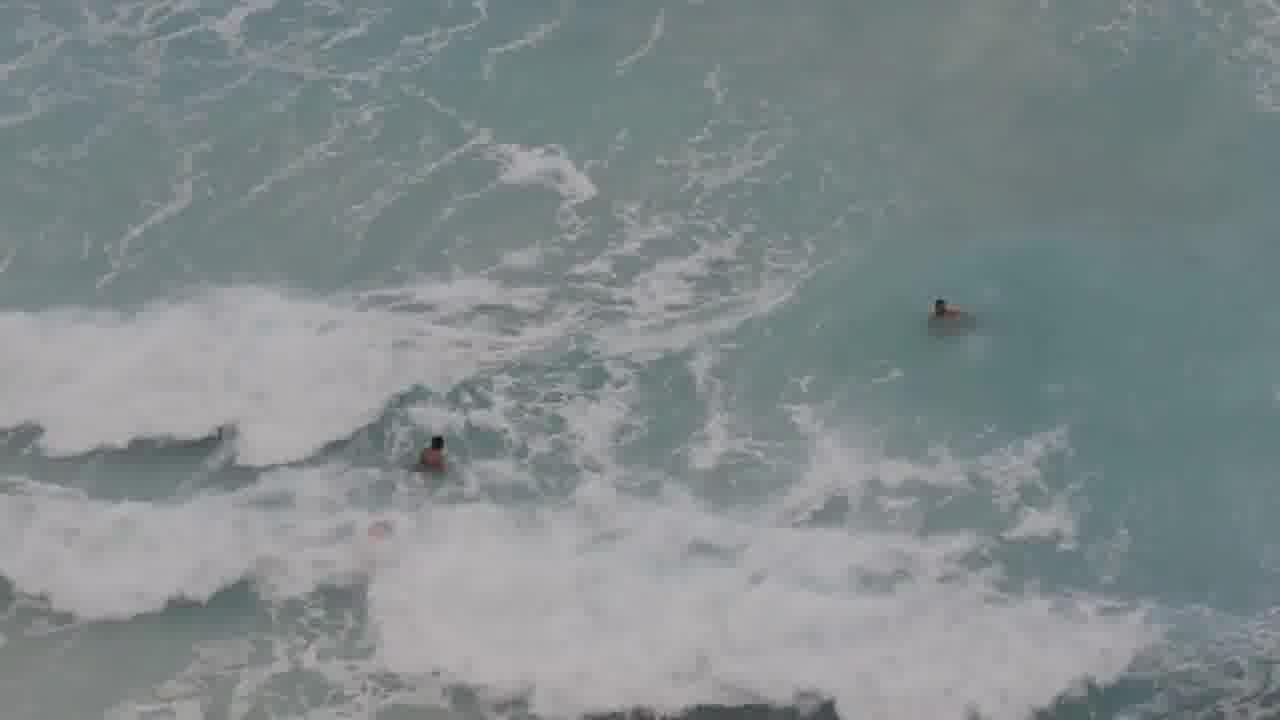human: (414, 413, 454, 481), (931, 282, 961, 346)
